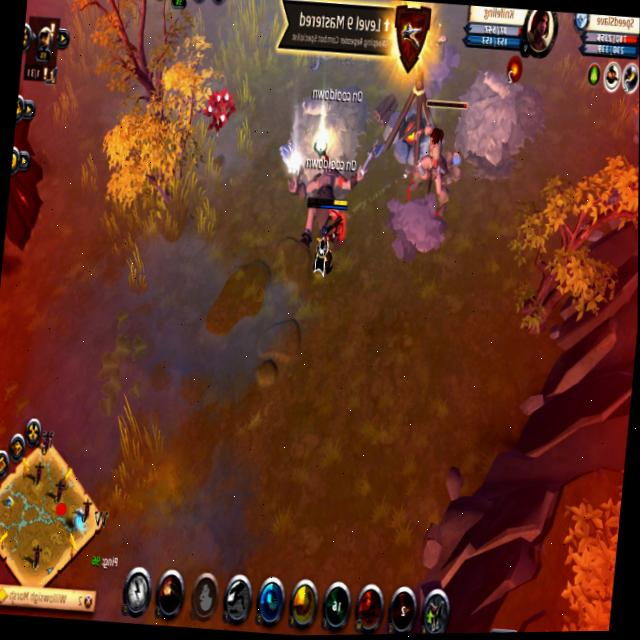hide: (196, 74, 240, 147)
red: (397, 88, 478, 223), (298, 190, 351, 286)
stone: (284, 147, 304, 176)
